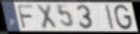3: (75, 4, 95, 30)
5: (55, 4, 77, 30)
F: (16, 4, 35, 30)
G: (113, 4, 134, 31)
I: (104, 4, 115, 30)
X: (35, 4, 59, 31)
